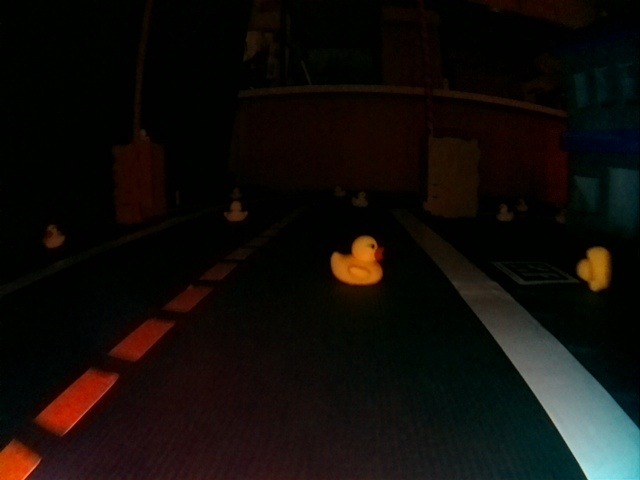Duckie: (332, 237, 385, 285), (577, 247, 611, 289), (223, 201, 249, 222), (44, 226, 62, 249), (496, 204, 511, 221), (352, 192, 368, 206)
QR code: (495, 260, 578, 285)
